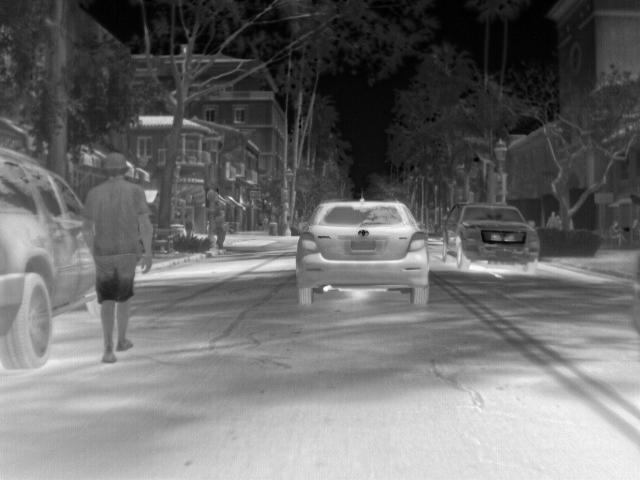car: (1, 147, 98, 367), (295, 198, 432, 306), (440, 200, 543, 271)
person: (81, 151, 155, 364), (215, 208, 231, 249), (609, 220, 628, 248), (184, 213, 197, 239), (546, 210, 562, 230)
